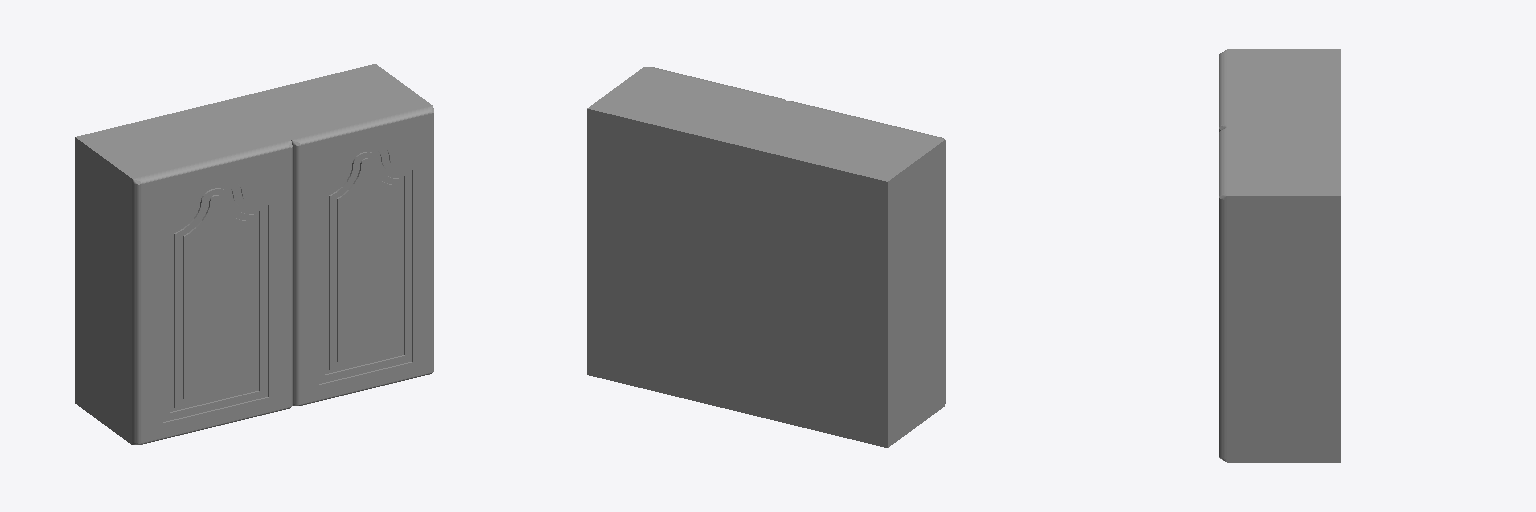
The model's file is double-wall-unit-850.obj.
3 renders of one model, left to right at view 1: azimuth 30°, elevation 25°; view 2: azimuth 150°, elevation 25°; view 3: azimuth 270°, elevation 25°, orthographic.
Parts seen in each view (by area): view 1: Cube.003_Cube.008, Cube.004_Cube.000, Cube_Cube.002, Cube.002_Cube.004; view 2: Cube_Cube.002, Cube.002_Cube.004, Cube.001_Cube.003, Cube.003_Cube.008; view 3: Cube.001_Cube.003, Cube_Cube.002, Cube.004_Cube.000, Cube.003_Cube.008.
Boxes of the visible parts, x1=… form: Cube.003_Cube.008: x1=132, y1=140, x2=292, y2=444; Cube.004_Cube.000: x1=291, y1=106, x2=433, y2=405; Cube_Cube.002: x1=81, y1=65, x2=426, y2=177; Cube.002_Cube.004: x1=75, y1=136, x2=136, y2=444; Cube_Cube.002: x1=592, y1=68, x2=938, y2=446; Cube.002_Cube.004: x1=882, y1=139, x2=944, y2=447; Cube.001_Cube.003: x1=587, y1=67, x2=648, y2=375; Cube.003_Cube.008: x1=787, y1=101, x2=945, y2=403; Cube.001_Cube.003: x1=1227, y1=194, x2=1340, y2=462; Cube_Cube.002: x1=1227, y1=52, x2=1340, y2=193; Cube.004_Cube.000: x1=1219, y1=127, x2=1226, y2=461; Cube.003_Cube.008: x1=1219, y1=50, x2=1226, y2=131.
Bounding box in the file's own units: 170 × 144 × 60.